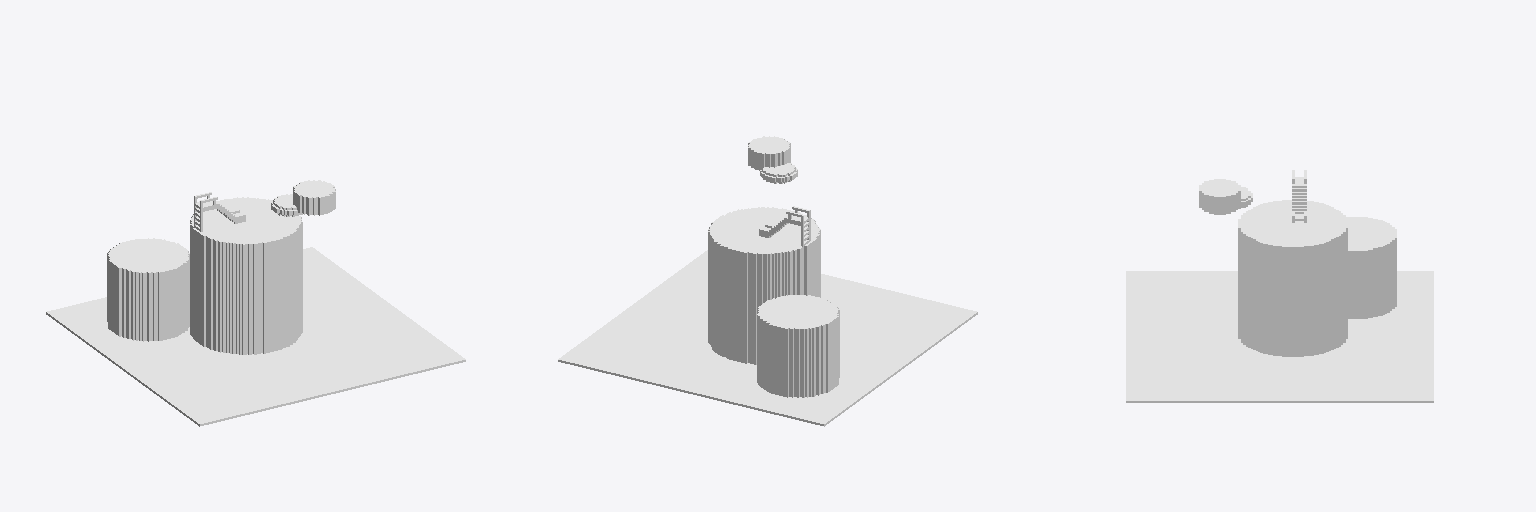
Rendered from lev1-2.obj.
The picture shows the model from 3 angles: view 1: azimuth 30°, elevation 25°; view 2: azimuth 150°, elevation 25°; view 3: azimuth 270°, elevation 25°; orthographic projection.
Parts seen in each view (by area): view 1: object 1; view 2: object 1; view 3: object 1.
Part boxes in pixels (left/top/right/bottom): object 1: left=46, top=180, right=465, bottom=426; object 1: left=558, top=136, right=977, bottom=426; object 1: left=1126, top=170, right=1433, bottom=402.
Bounding box in the file's own units: 12.6 × 7.4 × 12.6.